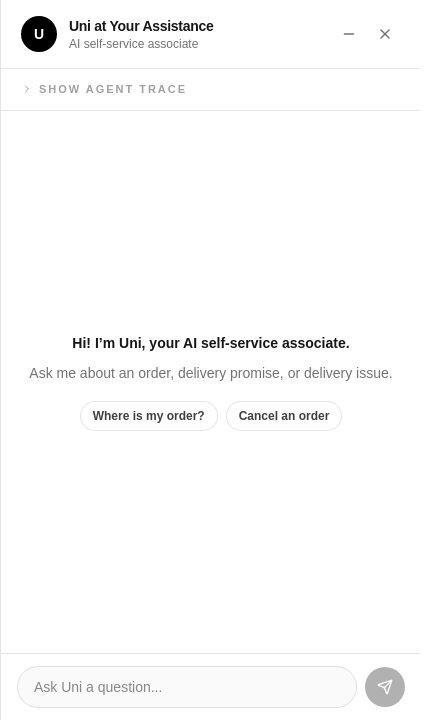
AssistantPanel close confirmation › keeps the conversation visible when the customer cancels the close confirmation
Click the button named "Close assistant" at (385, 34), box [369, 18, 401, 50]
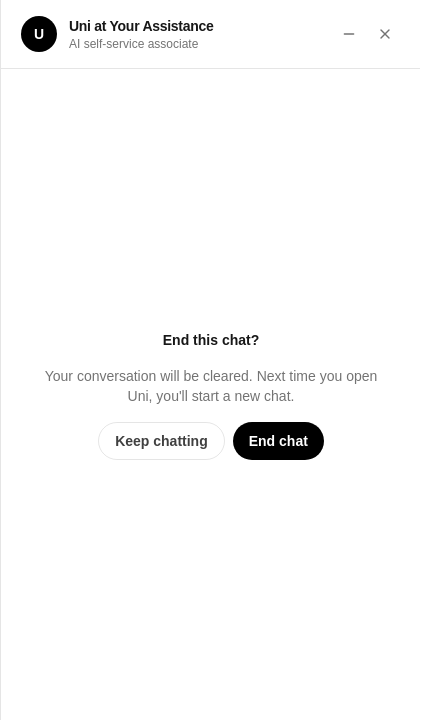
Click the button "Keep chatting" at (161, 440), box [98, 422, 225, 460]
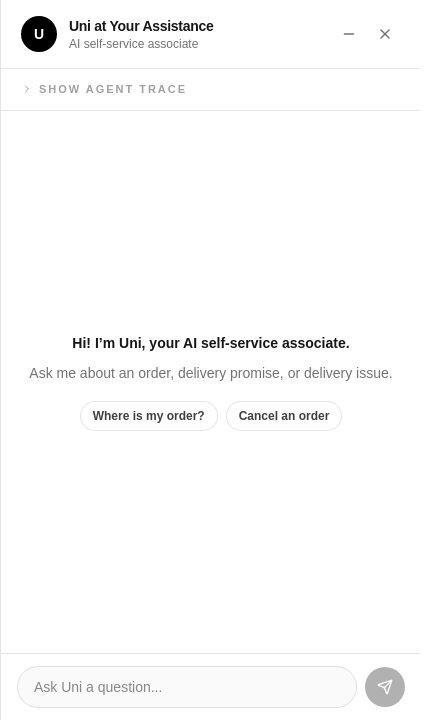
Result: the field with placeholder "Ask Uni a question..." is shown at [17, 666, 357, 708]
